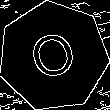O_S: (24, 25, 83, 88)
